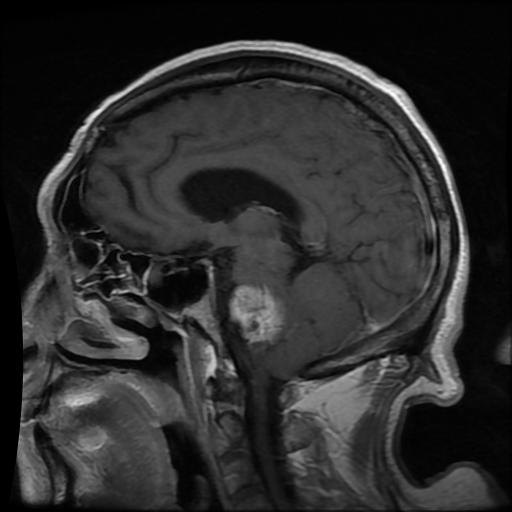Menigiomia_tumour: (227, 282, 283, 344)
